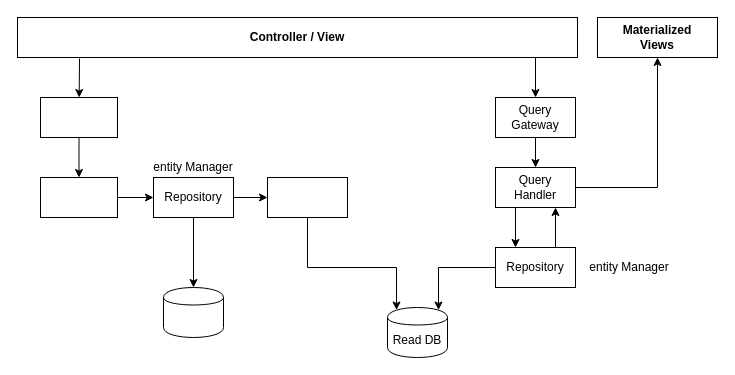
Some shapes in this 735 by 375 pixel diagram are drawn without their labels. The box of each missing label's shape, as (x1, y1, x2, y2) in pixels:
Command Gateway: (40, 96, 118, 138)
Command Handler: (40, 176, 118, 218)
Event Handler: (266, 176, 348, 218)
Event Strore: (162, 286, 224, 338)
